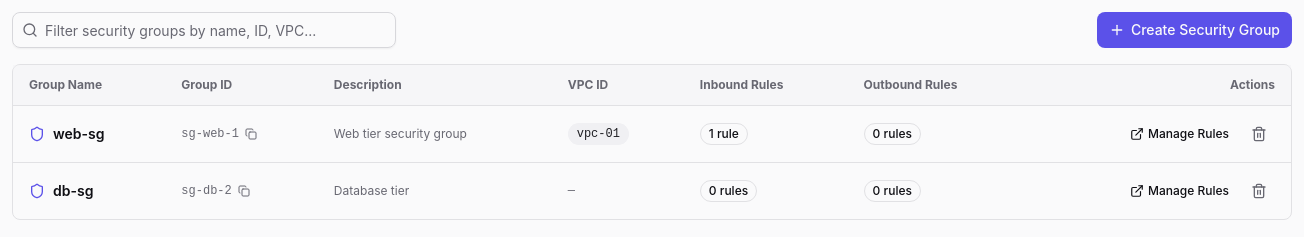
SecurityGroupListView › filters security groups by query
The width and height of the screenshot is (1304, 237).
Type "db" into the field with placeholder "Filter security groups by name, ID, VPC...". click: x=204, y=30
box: [12, 12, 396, 48]
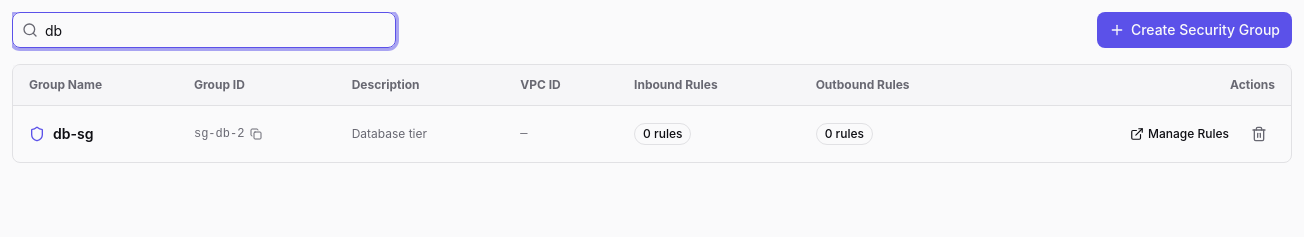
Expected: the text "db-sg" is shown, [53, 124, 93, 144]
Expected: the button "web-sg" is gone
